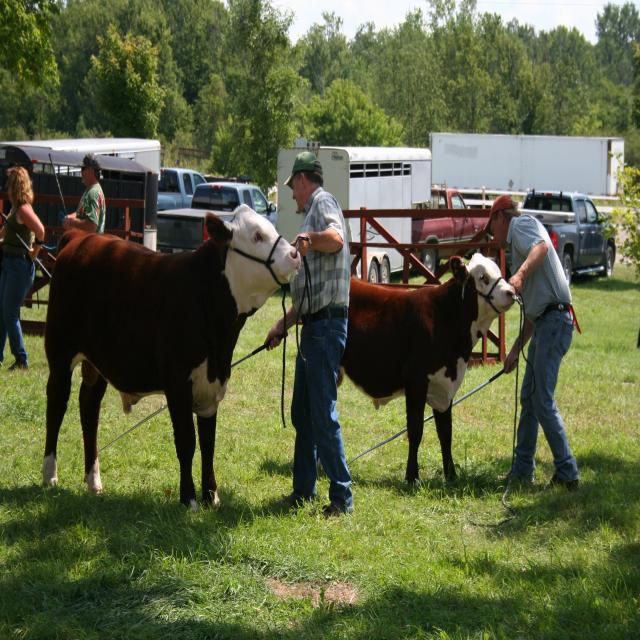cow: (42, 206, 301, 508), (340, 253, 501, 484)
